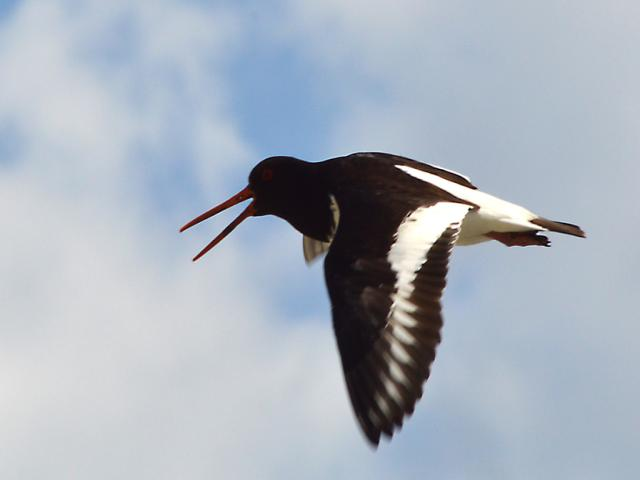Bird: (176, 141, 587, 454)
